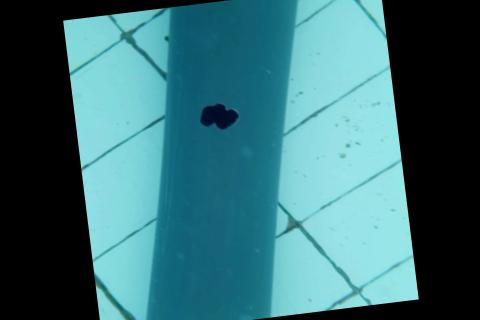kebocoran: (194, 98, 239, 134)
